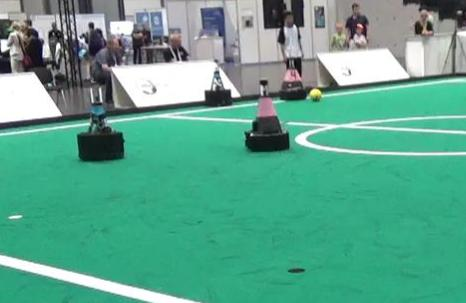robot: (74, 80, 128, 162), (244, 78, 290, 154)
